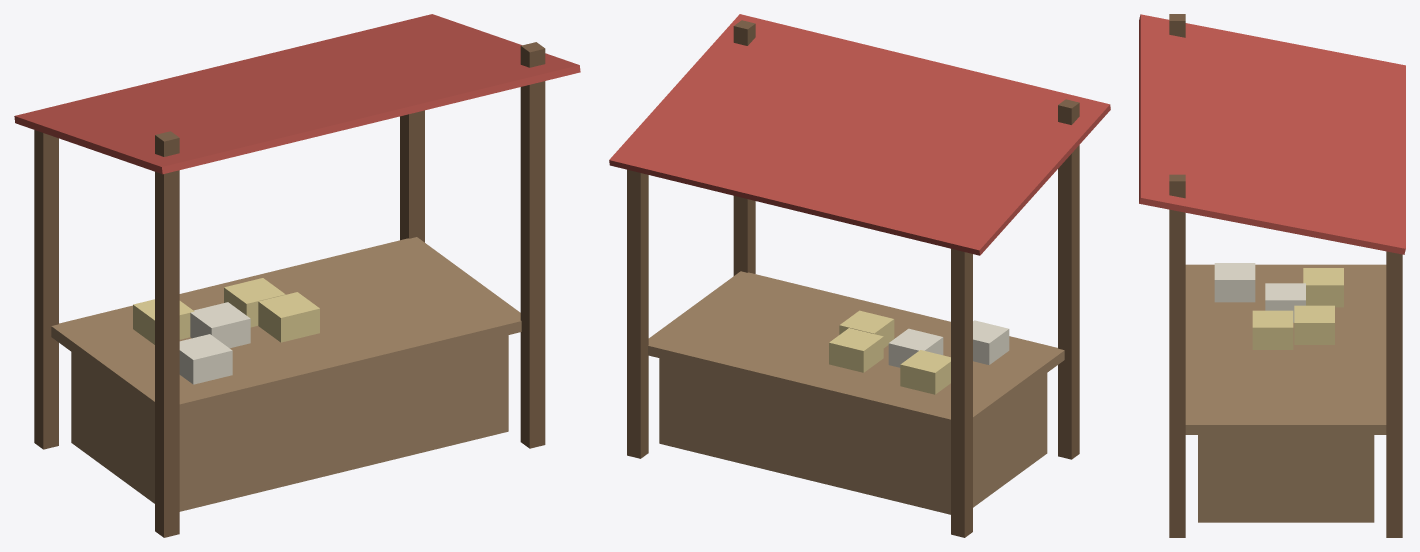
The model's file is Stall_Red.fbx.
3 renders of one model, left to right at view 1: azimuth 30°, elevation 25°; view 2: azimuth 150°, elevation 25°; view 3: azimuth 270°, elevation 25°, orthographic. The views are drawn at different scales.
Visible parts, largest first — view 1: Stall_Red; view 2: Stall_Red; view 3: Stall_Red.
Boxes of the visible parts, <box> form: Stall_Red: <box>14,14,580,537</box>; Stall_Red: <box>609,14,1110,537</box>; Stall_Red: <box>1139,14,1405,537</box>.
Bounding box in the file's own units: 3.2 × 1.97 × 2.9.
